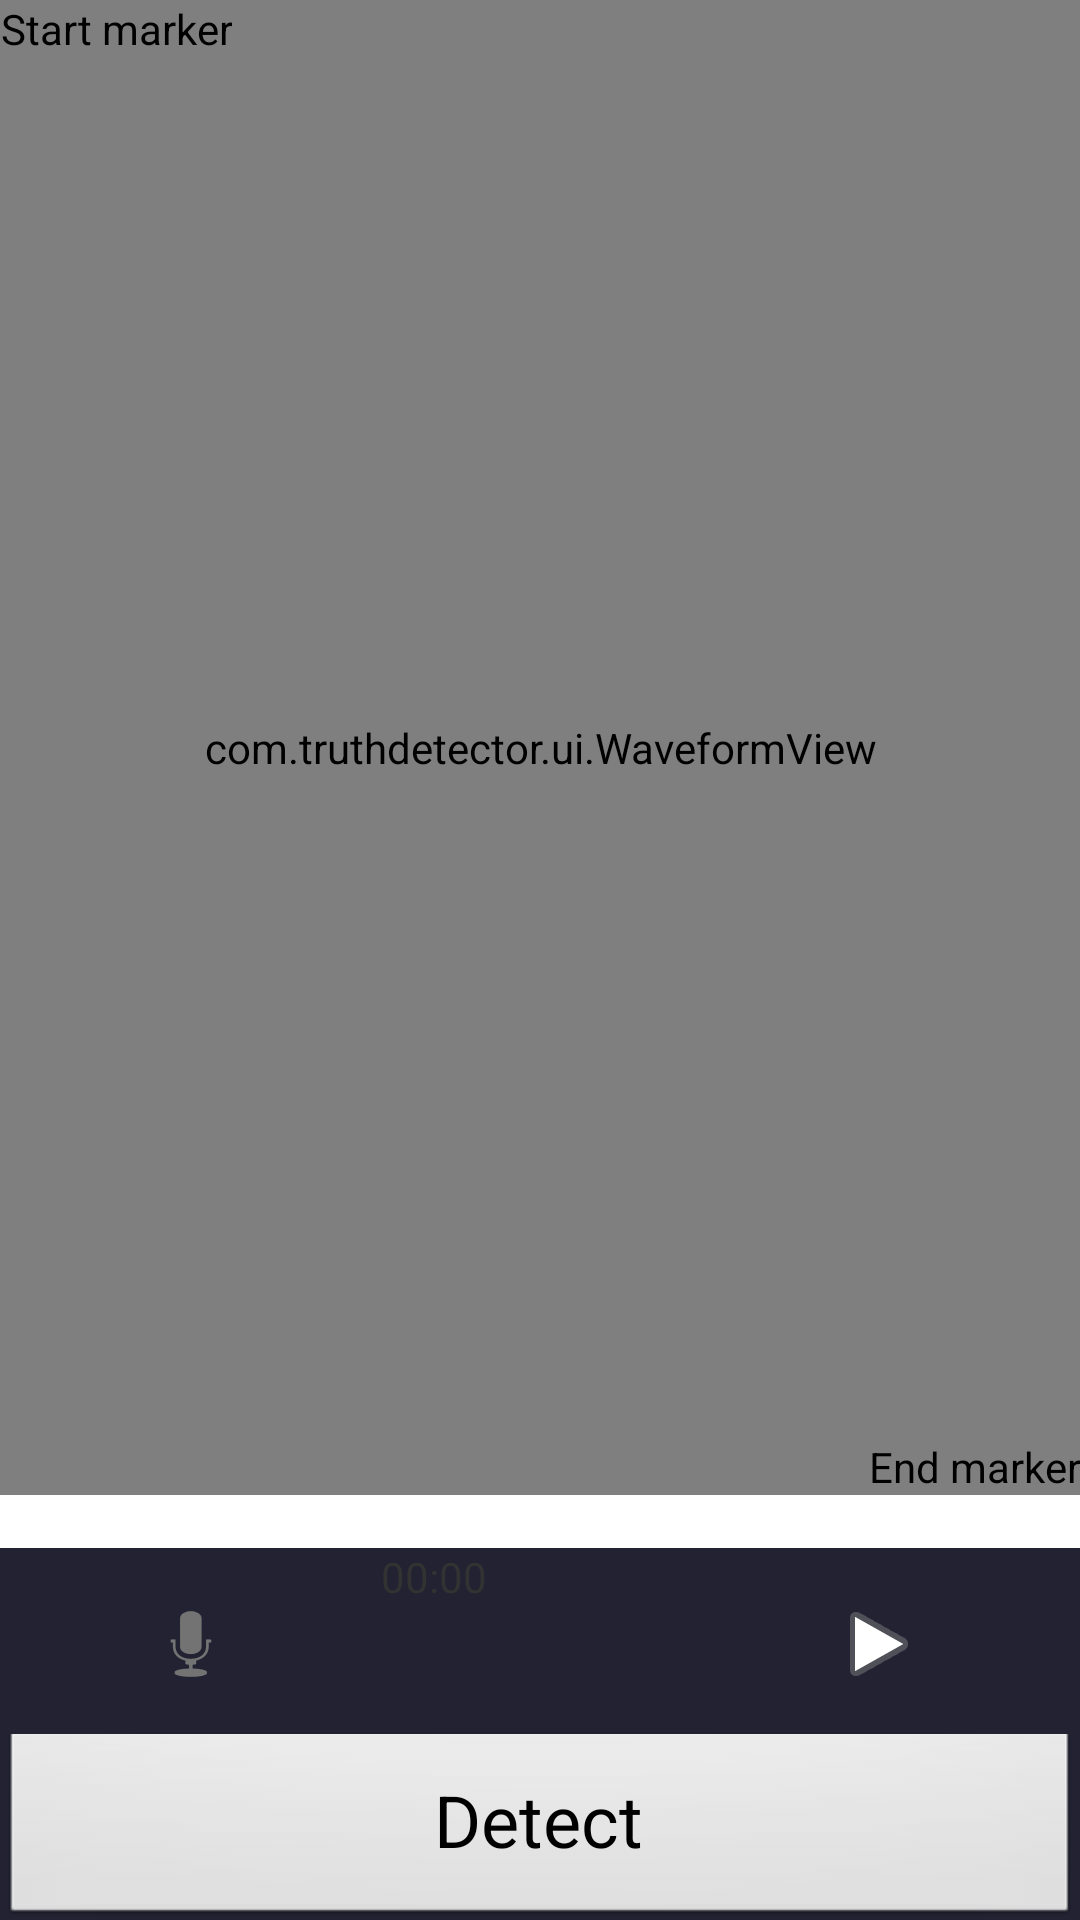

Named icons in this screenshot (1080×1920) and their centers, point (x, y):
play: point (879, 1644)
speak now: point (191, 1644)
